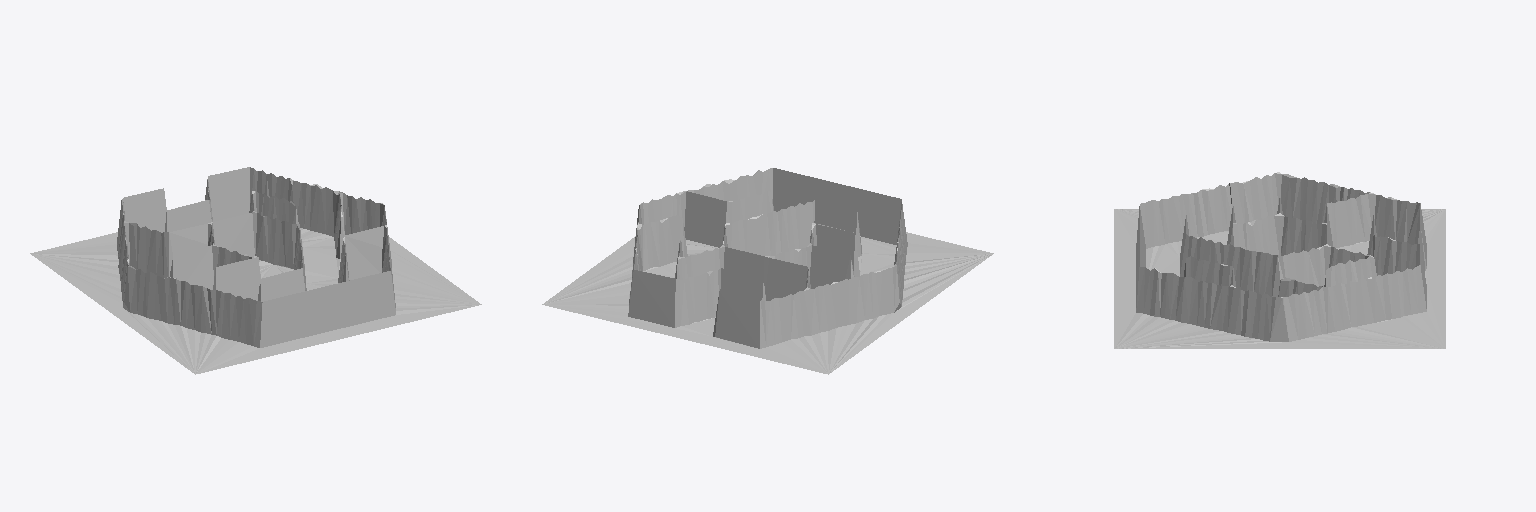
Rendered from small_maze.obj.
3 views of the same model, side by side, from view 1: azimuth 30°, elevation 25°; view 2: azimuth 150°, elevation 25°; view 3: azimuth 270°, elevation 25° (orthographic).
Visible parts, largest first — view 1: Plane_Plane.003; view 2: Plane_Plane.003; view 3: Plane_Plane.003.
Boxes of the visible parts, x1=… form: Plane_Plane.003: x1=30, y1=167, x2=481, y2=374; Plane_Plane.003: x1=542, y1=168, x2=993, y2=374; Plane_Plane.003: x1=1114, y1=172, x2=1445, y2=348.
Size of the model in its own units: 16 by 2.48 by 16.